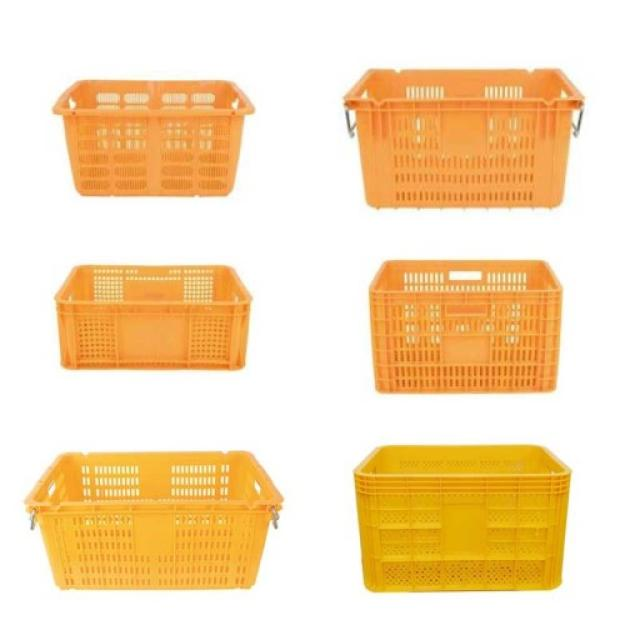basket: (25, 452, 284, 592), (346, 69, 585, 207), (355, 446, 571, 593), (370, 262, 565, 394), (53, 80, 254, 196), (54, 266, 251, 370)
